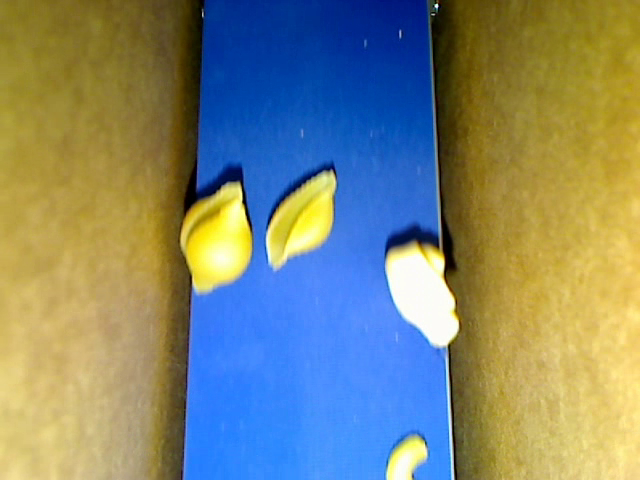elbow: (384, 431, 428, 479)
shell: (180, 181, 253, 295), (265, 169, 337, 271)
tortellini: (384, 240, 459, 347)
